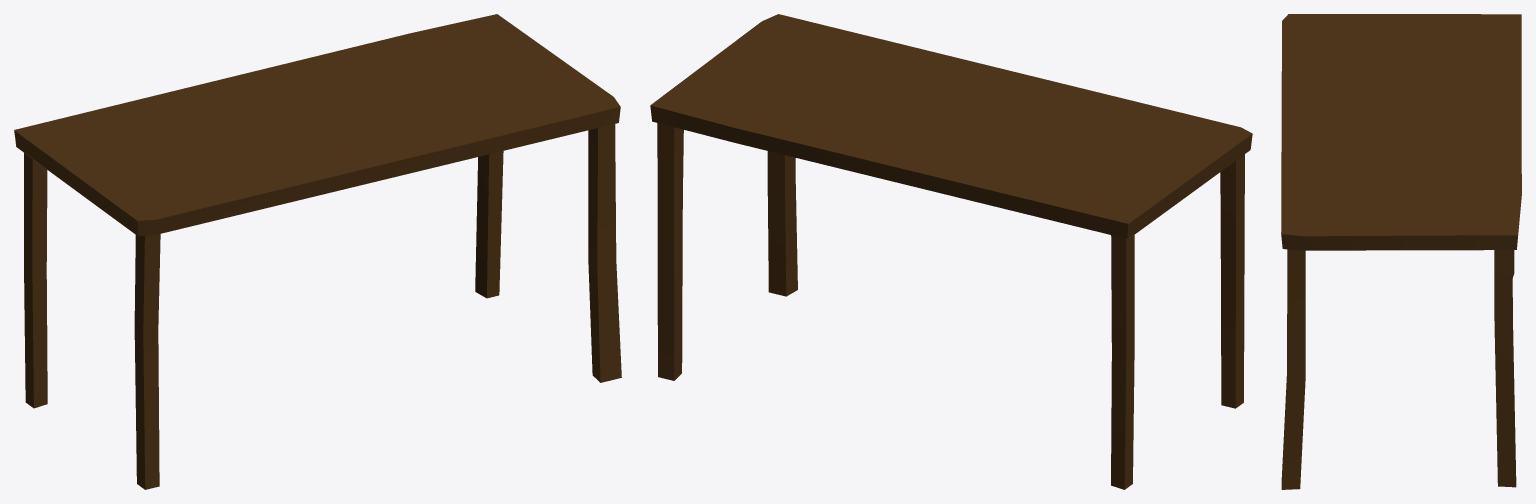
File: TitleTable.FBX
The picture shows the model from 3 angles, left to right: view 1: azimuth 30°, elevation 25°; view 2: azimuth 150°, elevation 25°; view 3: azimuth 270°, elevation 25°; orthographic projection. The views are drawn at different scales.
Parts seen in each view (by area): view 1: Desk; view 2: Desk; view 3: Desk.
Boxes of the visible parts, x1,y1,x2,y2 form: Desk: (14, 14, 621, 489); Desk: (650, 14, 1252, 489); Desk: (1281, 14, 1521, 489).
Size of the model in its own units: 68.89 by 36.9 by 31.52.
